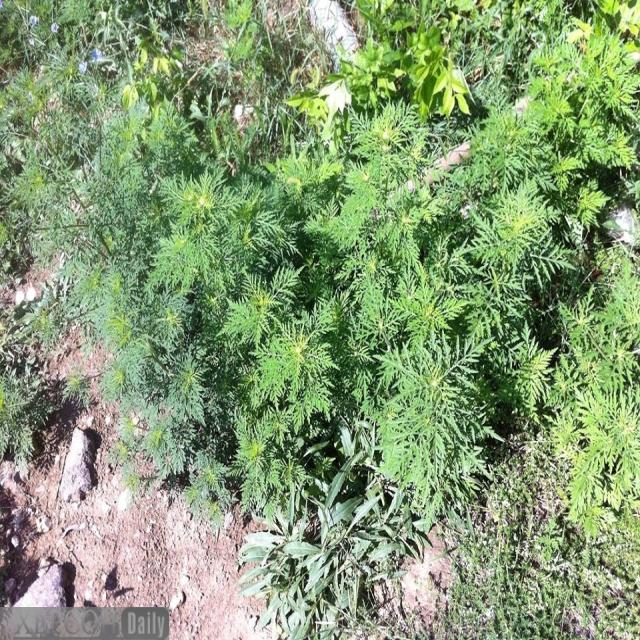ambrosia: (507, 251, 640, 529), (360, 278, 494, 524), (326, 94, 456, 291), (219, 286, 347, 440), (176, 154, 313, 294), (536, 39, 634, 178)
